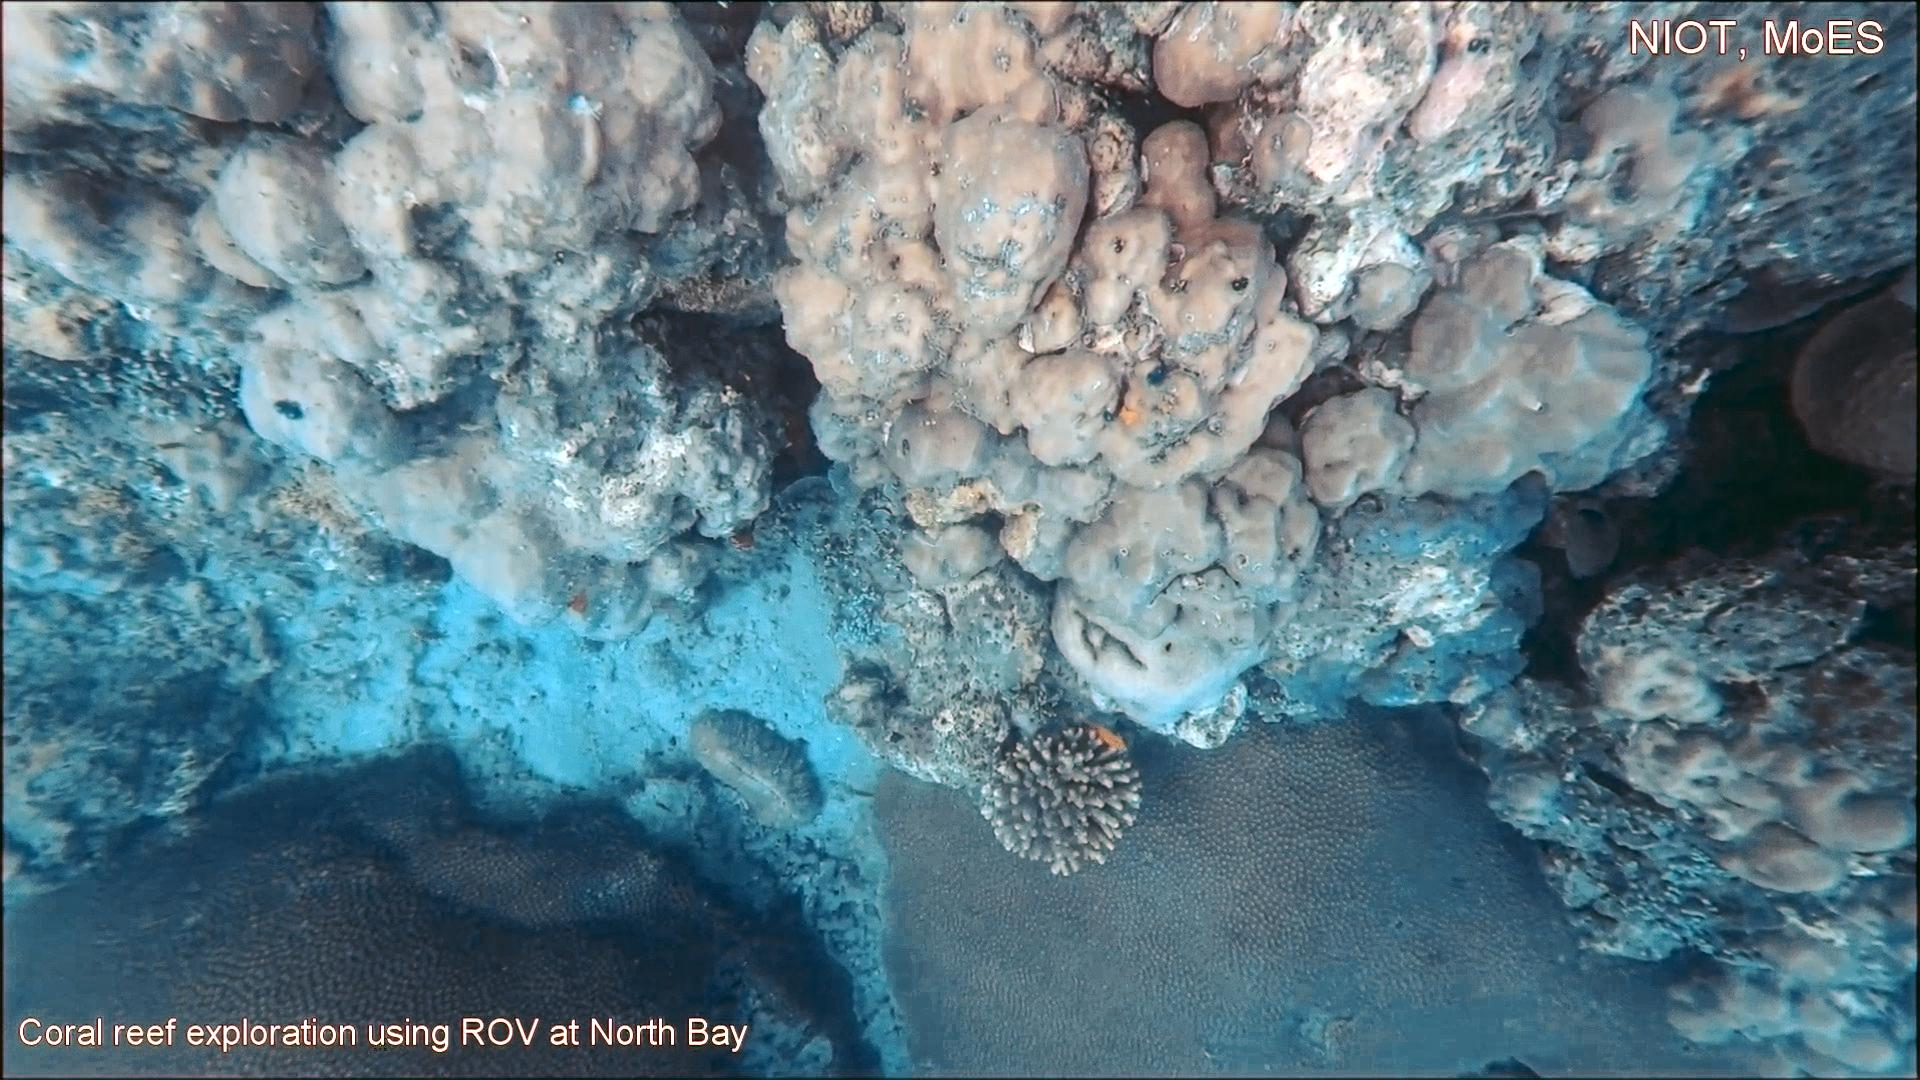Meandrina meandrites: (1780, 264, 1920, 491)
